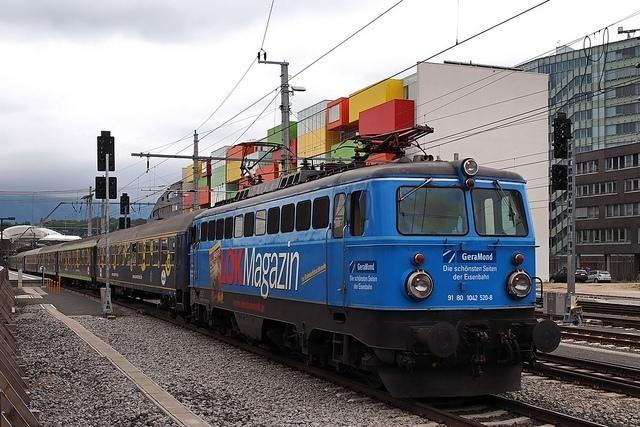car: (550, 268, 588, 284), (585, 270, 612, 283)
